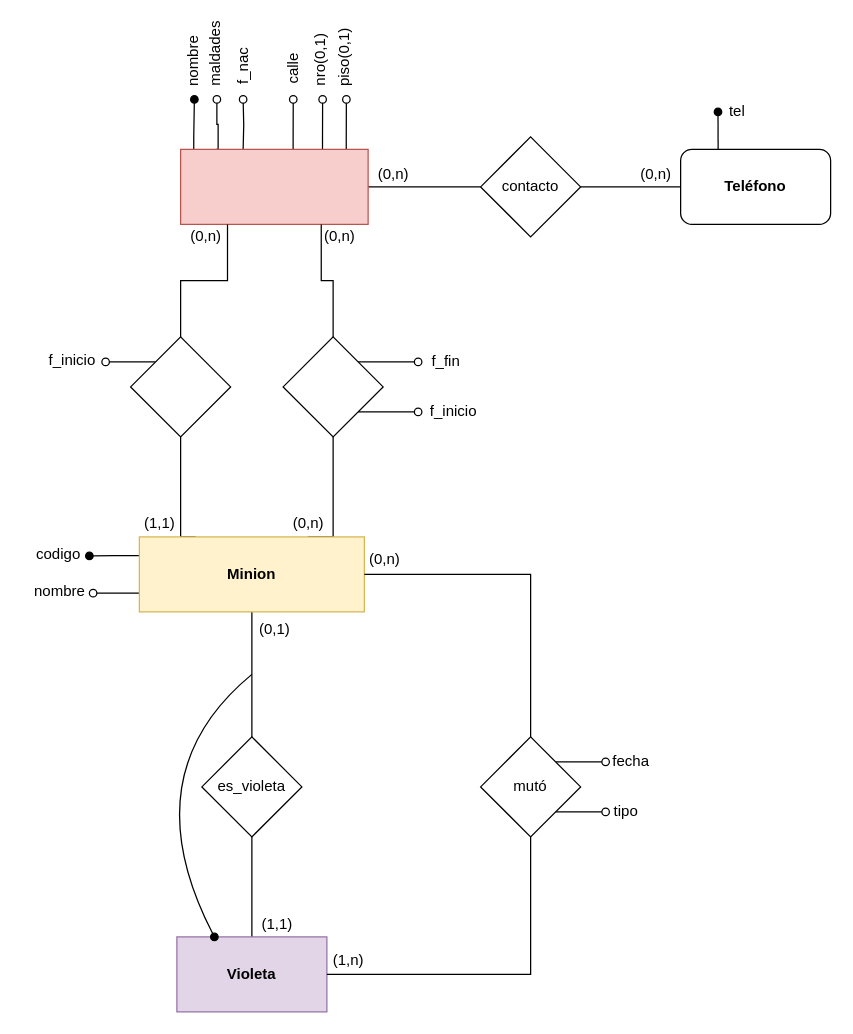
Some shapes in this 853 by 1034 pixel diagram are drawn without their labels. The shapes that lost their labels are listed below. From the top down, each one's centre as x and y in pixels, then its label:
(x=273, y=186): Villano
(x=180, y=386): actual
(x=332, y=386): historico
